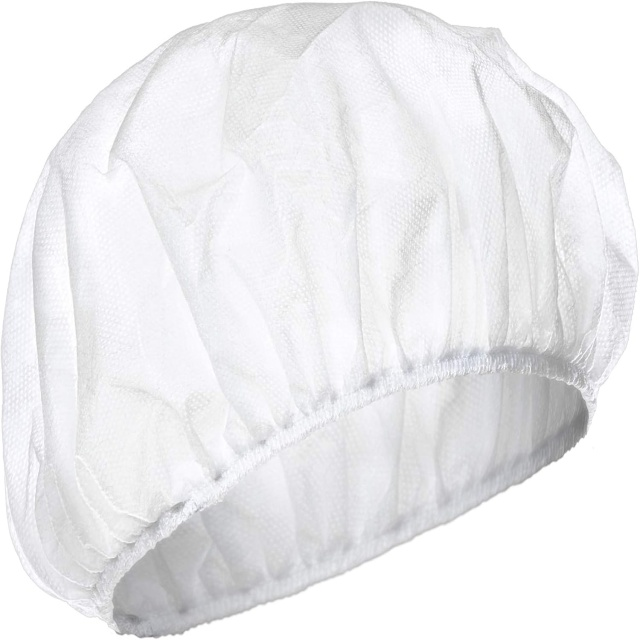Hairnet: (46, 34, 493, 556)
